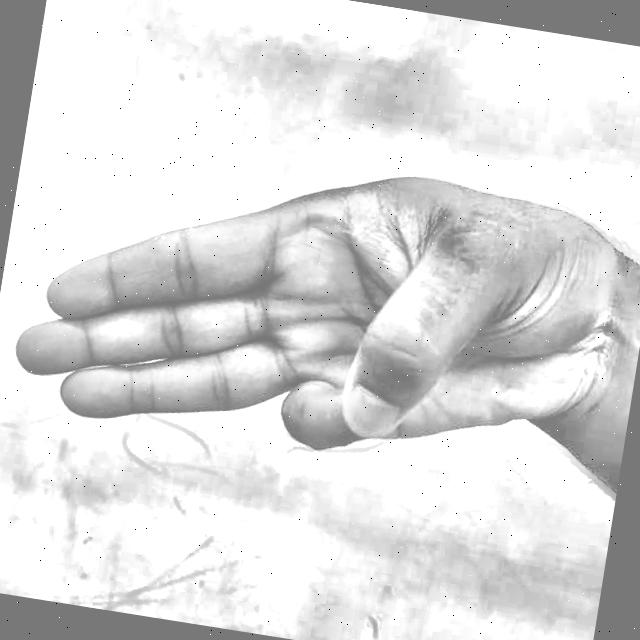Ma: (1, 108, 640, 570)
